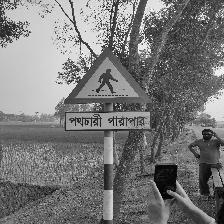Pedestrian-crossing: (64, 48, 154, 132)
